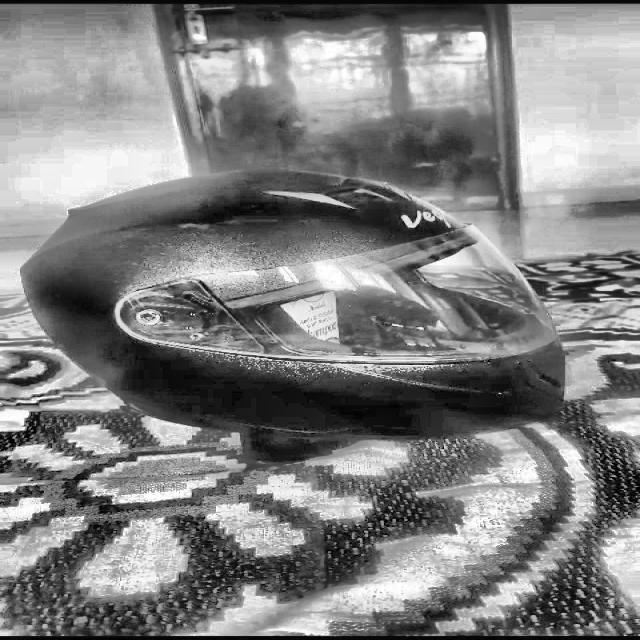Helmet: (8, 167, 567, 436)
